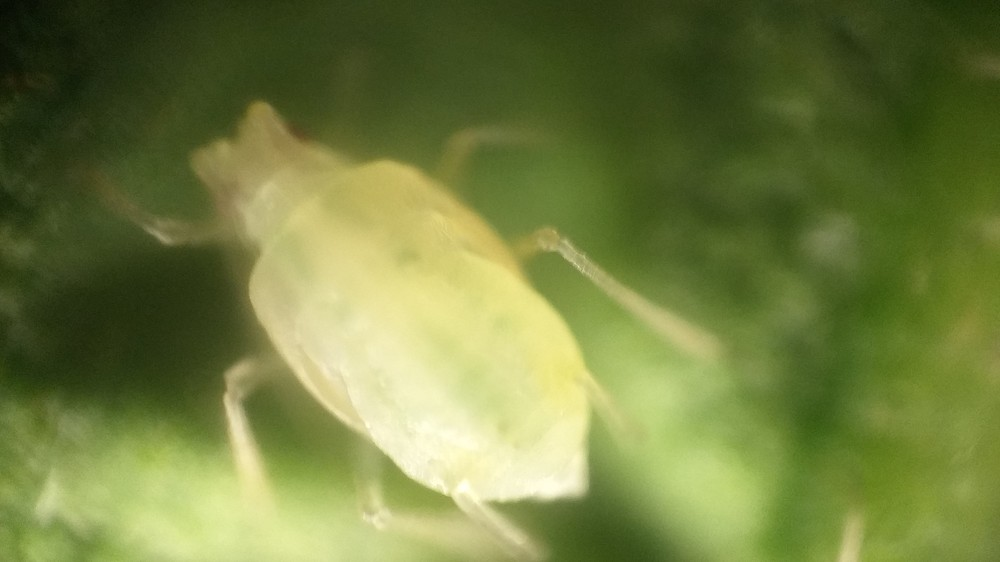Pulgon: (88, 52, 759, 558)
